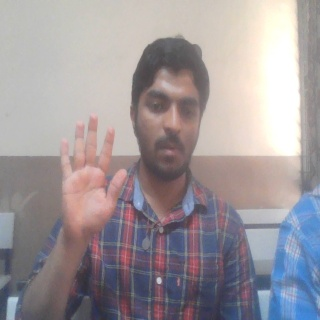Face: (128, 32, 211, 188)
Hello: (57, 111, 128, 244)
